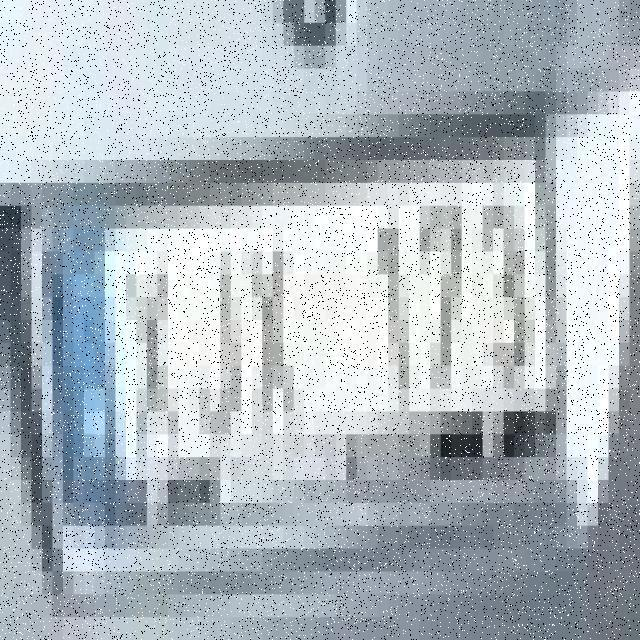LicensePlate: (22, 119, 596, 526)
